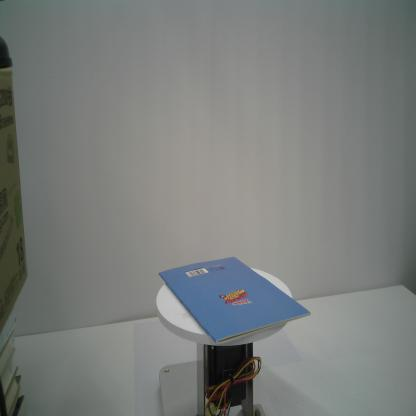Stationery: (158, 255, 311, 343)
